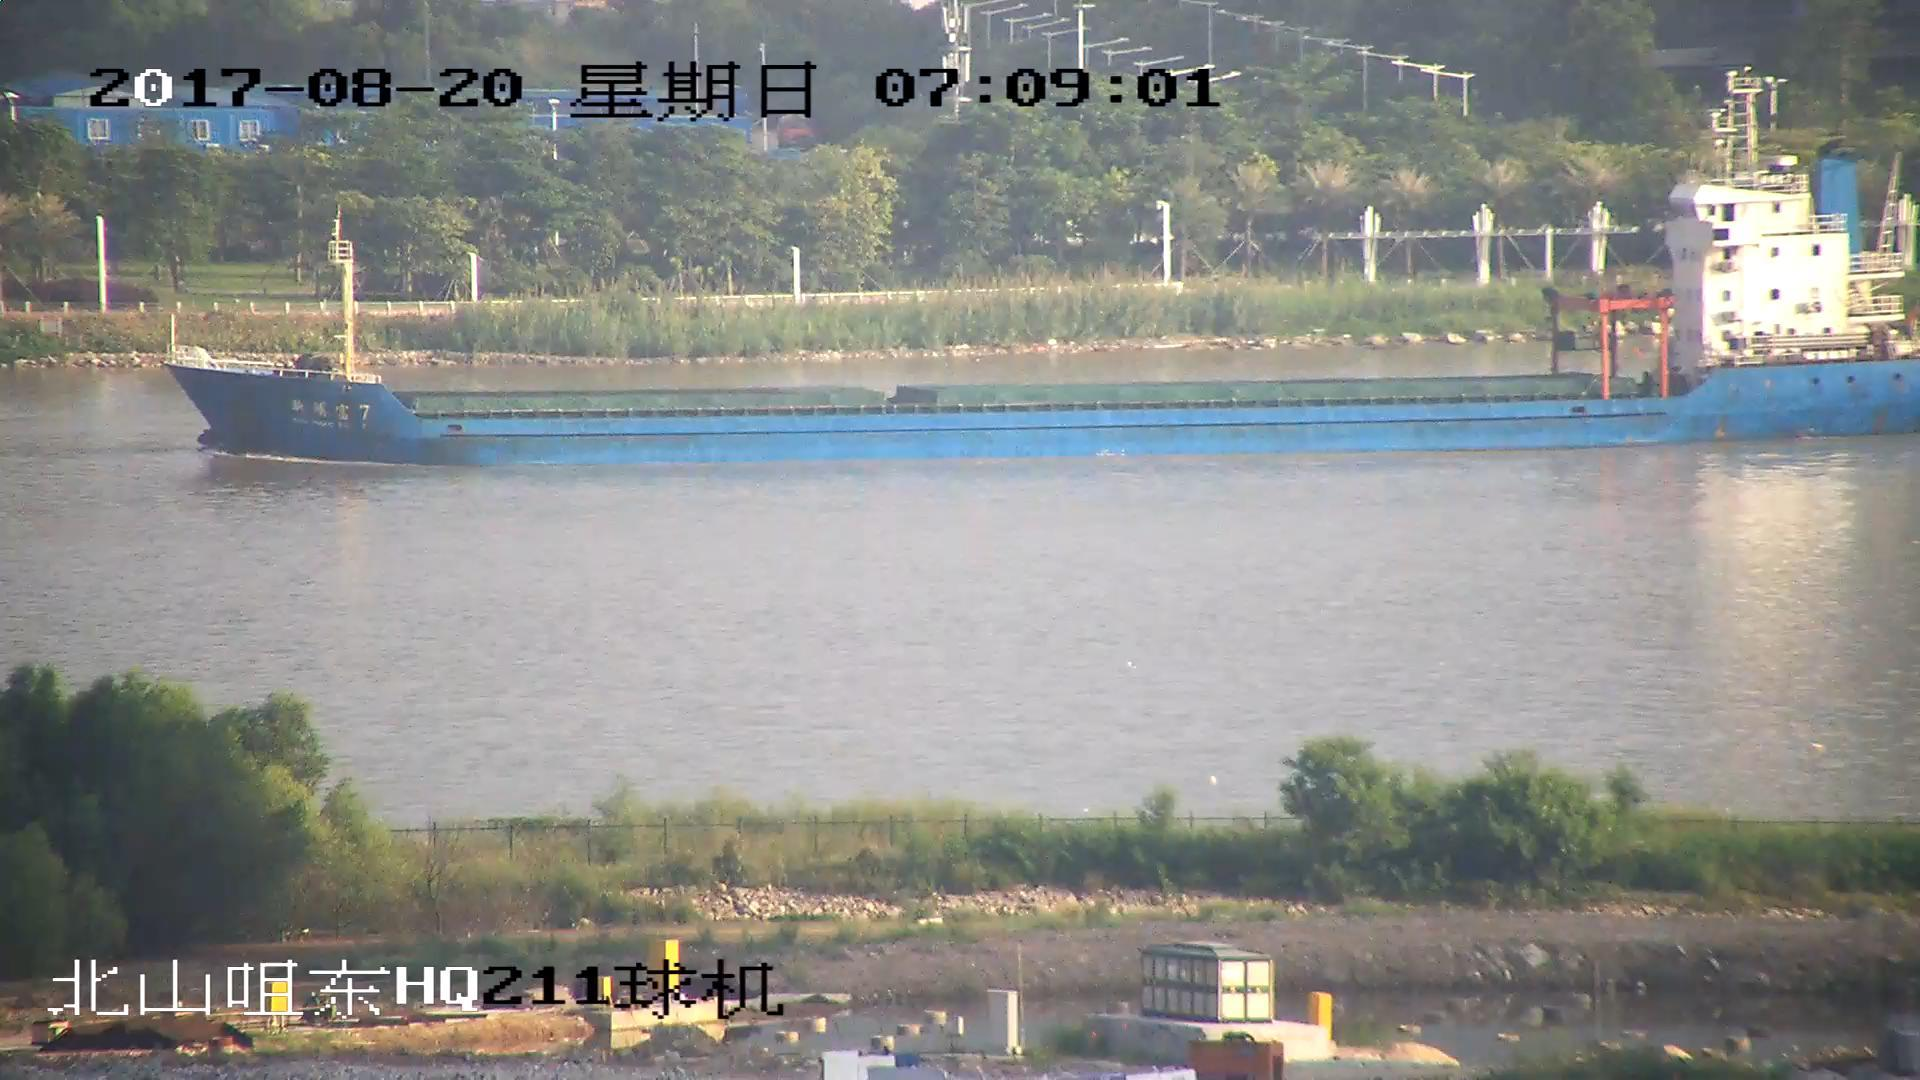Ship: (158, 113, 1920, 464)
